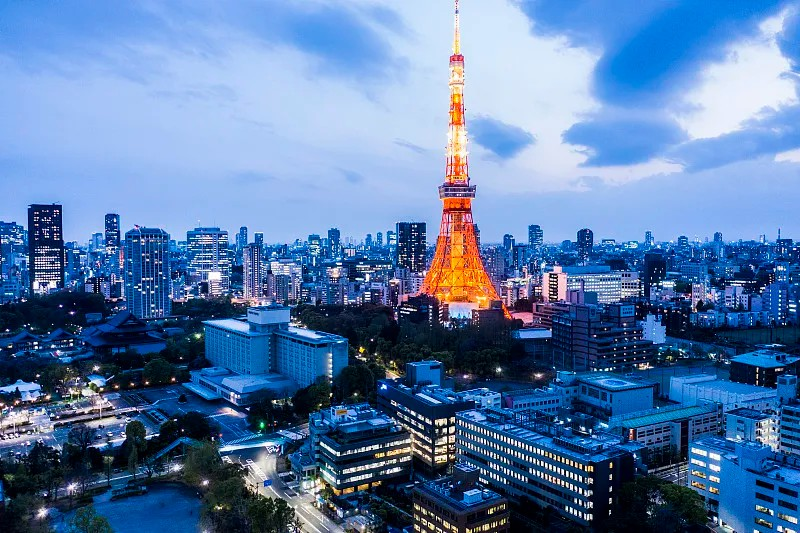Tokyo: (416, 1, 513, 323)
